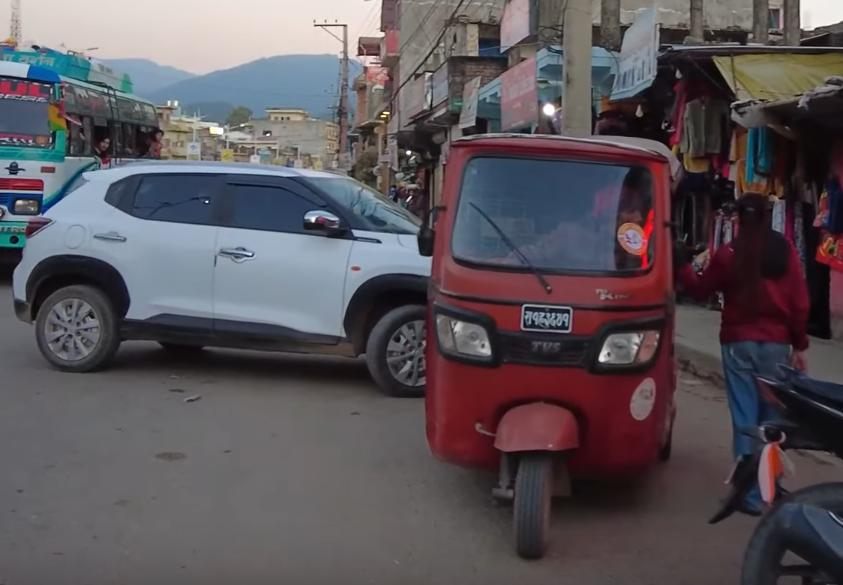auto_rickshaw: (401, 125, 682, 560)
bus: (0, 44, 165, 252)
car: (9, 159, 435, 399)
